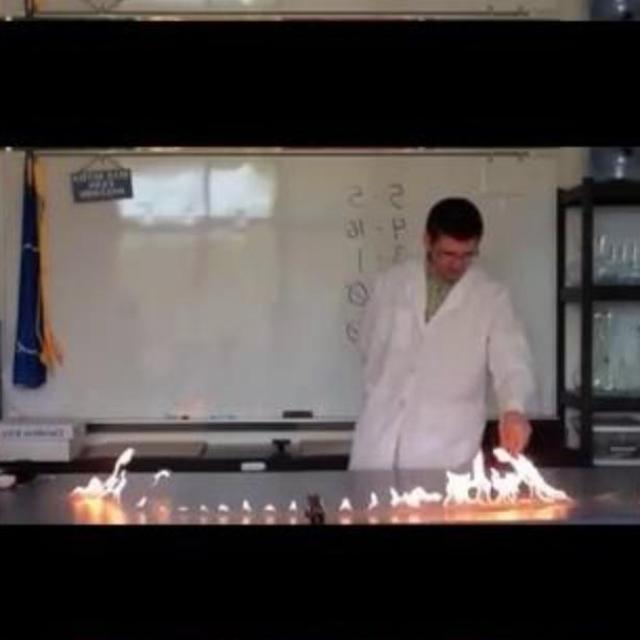smoke: (386, 444, 580, 509), (68, 444, 136, 513)
